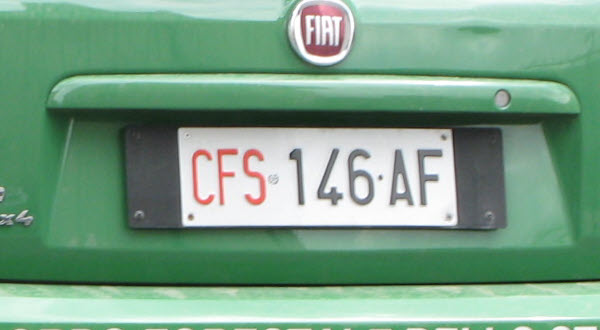license_plate: (177, 126, 451, 226)
